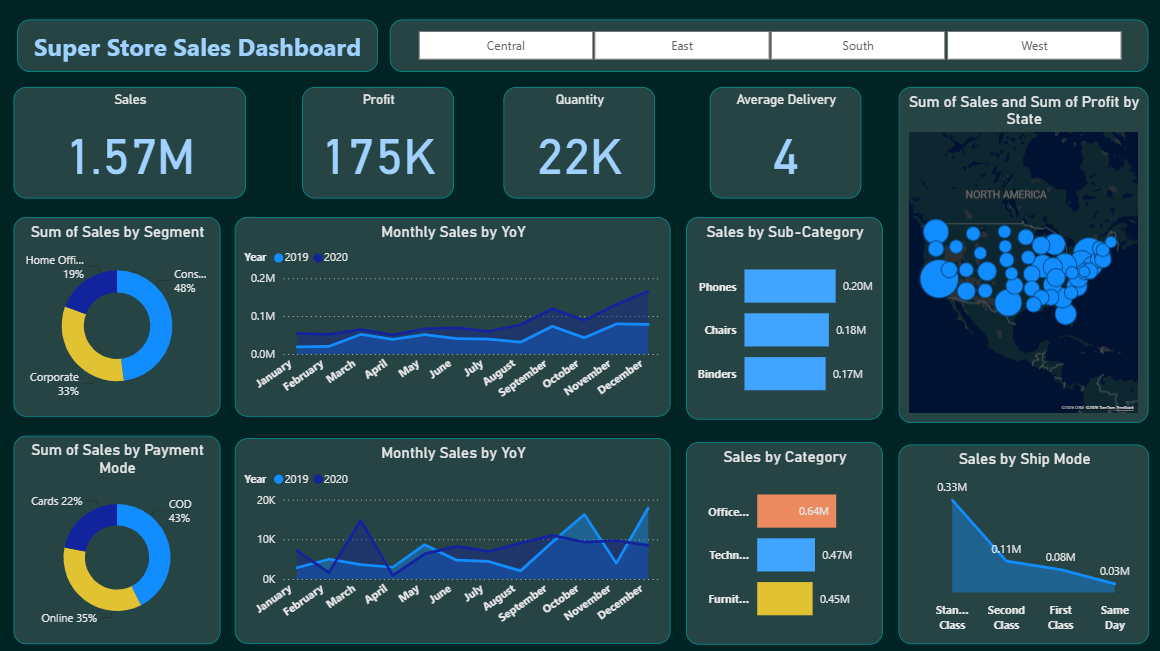

Layout of this report page (visuals, bound fields, positions):
{"tool":"powerbi","page":{"name":"Page 1","canvas":[1280,720],"ordinal":0},"visuals":[{"type":"clusteredBarChart","title":"Sales by Category","fields":{"Category":["SuperStore_Sales_Dataset.Category"],"Y":["Sum(SuperStore_Sales_Dataset.Sales)"]},"box":[757,488.1,216.1,222.3],"z":0},{"type":"clusteredBarChart","title":"Sales by Sub-Category","fields":{"Category":["SuperStore_Sales_Dataset.Sub-Category"],"Y":["Sum(SuperStore_Sales_Dataset.Sales)"]},"box":[757,240.9,216.1,222.3],"z":1000},{"type":"areaChart","title":"Sales by Ship Mode","fields":{"Category":["SuperStore_Sales_Dataset.Ship Mode"],"Y":["Sum(SuperStore_Sales_Dataset.Sales)"]},"box":[990.1,491.2,275.1,219.2],"z":2000},{"type":"areaChart","title":"Monthly Sales by YoY","fields":{"Y":["Sum(SuperStore_Sales_Dataset.Sales)"],"Category":["SuperStore_Sales_Dataset.Order Date.Variation.Date Hierarchy.Month","SuperStore_Sales_Dataset.Order Date.Variation.Date Hierarchy.Day"],"Series":["SuperStore_Sales_Dataset.Order Date.Variation.Date Hierarchy.Year"]},"box":[262.7,240.9,478.8,219.2],"z":3000},{"type":"areaChart","title":"Monthly Sales by YoY","fields":{"Category":["SuperStore_Sales_Dataset.Order Date.Variation.Date Hierarchy.Month","SuperStore_Sales_Dataset.Order Date.Variation.Date Hierarchy.Day"],"Series":["SuperStore_Sales_Dataset.Order Date.Variation.Date Hierarchy.Year"],"Y":["Sum(SuperStore_Sales_Dataset.Profit)"]},"box":[262.7,485,478.8,225.4],"z":4000},{"type":"map","fields":{"Category":["SuperStore_Sales_Dataset.State"],"Size":["Sum(SuperStore_Sales_Dataset.Sales)"]},"box":[990.1,82.4,275.1,385.5],"z":4001},{"type":"donutChart","fields":{"Category":["SuperStore_Sales_Dataset.Segment"],"Y":["Sum(SuperStore_Sales_Dataset.Sales)"]},"box":[18.7,240.9,226.9,219.2],"z":4002},{"type":"donutChart","fields":{"Category":["SuperStore_Sales_Dataset.Payment Mode"],"Y":["Sum(SuperStore_Sales_Dataset.Sales)"]},"box":[18.7,481.9,226.9,228.5],"z":4003},{"type":"slicer","fields":{"Values":["SuperStore_Sales_Dataset.Region"]},"box":[432.1,24.9,833.2,57.5],"z":4004},{"type":"textbox","box":[23.3,24.9,396.4,57.5],"z":4005},{"type":"card","title":"Sales","fields":{"Values":["Sum(SuperStore_Sales_Dataset.Sales)"]},"box":[18.7,99.5,254.9,122.8],"z":4006},{"type":"card","title":"Profit","fields":{"Values":["Sum(SuperStore_Sales_Dataset.Profit)"]},"box":[335.7,99.5,166.3,122.8],"z":4007},{"type":"card","title":"Quantity","fields":{"Values":["Sum(SuperStore_Sales_Dataset.Quantity)"]},"box":[556.5,99.5,166.3,122.8],"z":4008},{"type":"card","title":"Average Delivery","fields":{"Values":["Avg(SuperStore_Sales_Dataset.AvgDelivery)"]},"box":[783.4,99.5,166.3,122.8],"z":4009}]}

Visuals, with their boxes in screenshot pixels (x1, y1, x2, y2), scaled from the page's 1280x720 canvas onto the 1160x651 screenshot:
"Sales by Category" clusteredBarChart: x1=686, y1=441, x2=882, y2=642
"Sales by Sub-Category" clusteredBarChart: x1=686, y1=218, x2=882, y2=419
"Sales by Ship Mode" areaChart: x1=897, y1=444, x2=1147, y2=642
"Monthly Sales by YoY" areaChart: x1=238, y1=218, x2=672, y2=416
"Monthly Sales by YoY" areaChart: x1=238, y1=439, x2=672, y2=642
map - SuperStore_Sales_Dataset.State x Sum(SuperStore_Sales_Dataset.Sales): x1=897, y1=75, x2=1147, y2=423
donutChart - SuperStore_Sales_Dataset.Segment x Sum(SuperStore_Sales_Dataset.Sales): x1=17, y1=218, x2=223, y2=416
donutChart - SuperStore_Sales_Dataset.Payment Mode x Sum(SuperStore_Sales_Dataset.Sales): x1=17, y1=436, x2=223, y2=642
slicer - SuperStore_Sales_Dataset.Region: x1=392, y1=23, x2=1147, y2=75
textbox: x1=21, y1=23, x2=380, y2=75
"Sales" card: x1=17, y1=90, x2=248, y2=201
"Profit" card: x1=304, y1=90, x2=455, y2=201
"Quantity" card: x1=504, y1=90, x2=655, y2=201
"Average Delivery" card: x1=710, y1=90, x2=861, y2=201
